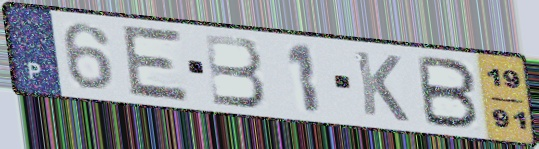1: (286, 43, 325, 117)
6: (60, 21, 118, 93)
B: (201, 32, 270, 110), (415, 53, 482, 131)
E: (121, 22, 192, 104)
K: (352, 48, 412, 125)
